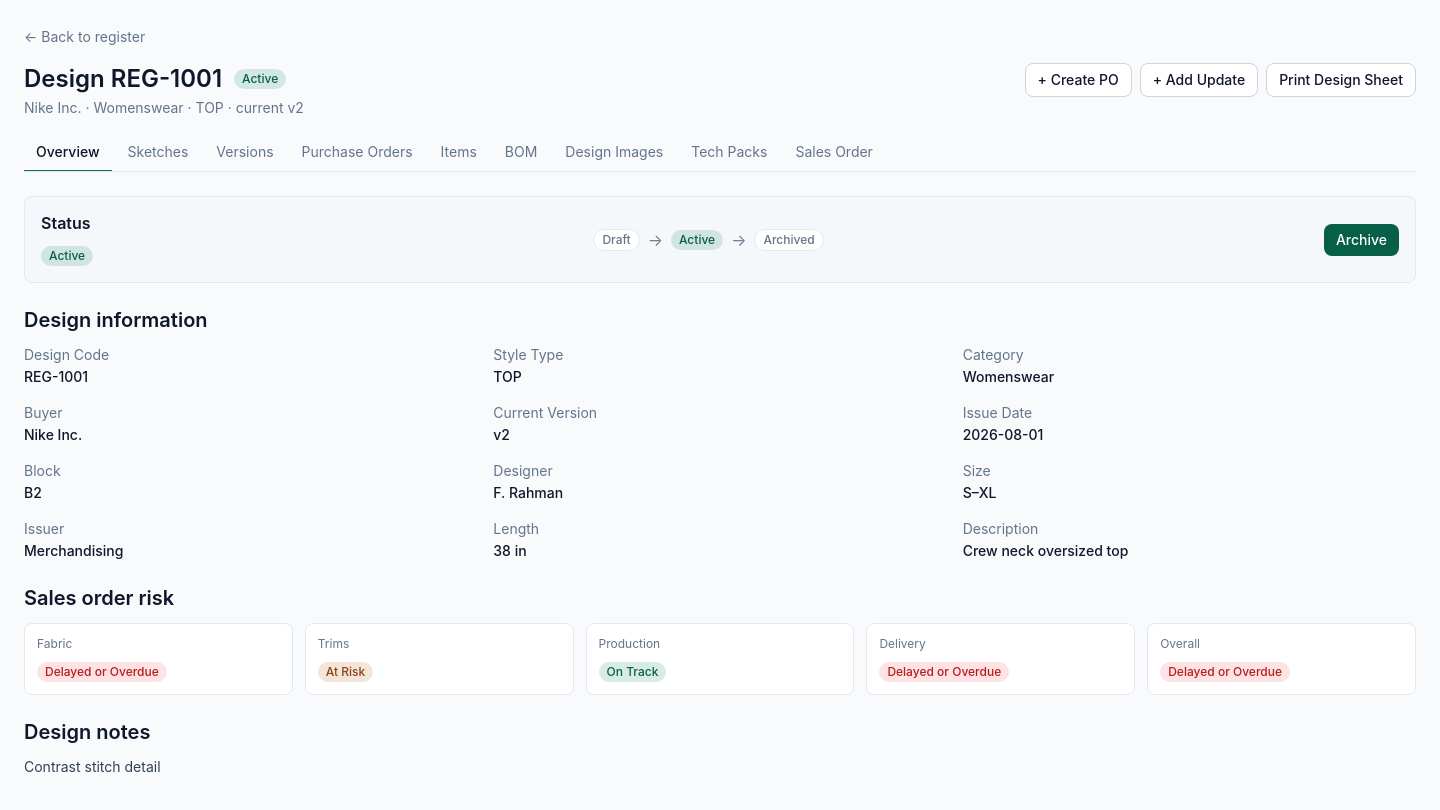
Test case: DesignDetailPage — Purchase Orders tab › lists the POs with a drill-down link
Expected: the heading "Design REG-1001" is shown, x1=24 y1=63 x2=222 y2=94
Step 1. Click the tab "Purchase Orders" → (357, 153), box x1=290 y1=134 x2=425 y2=172
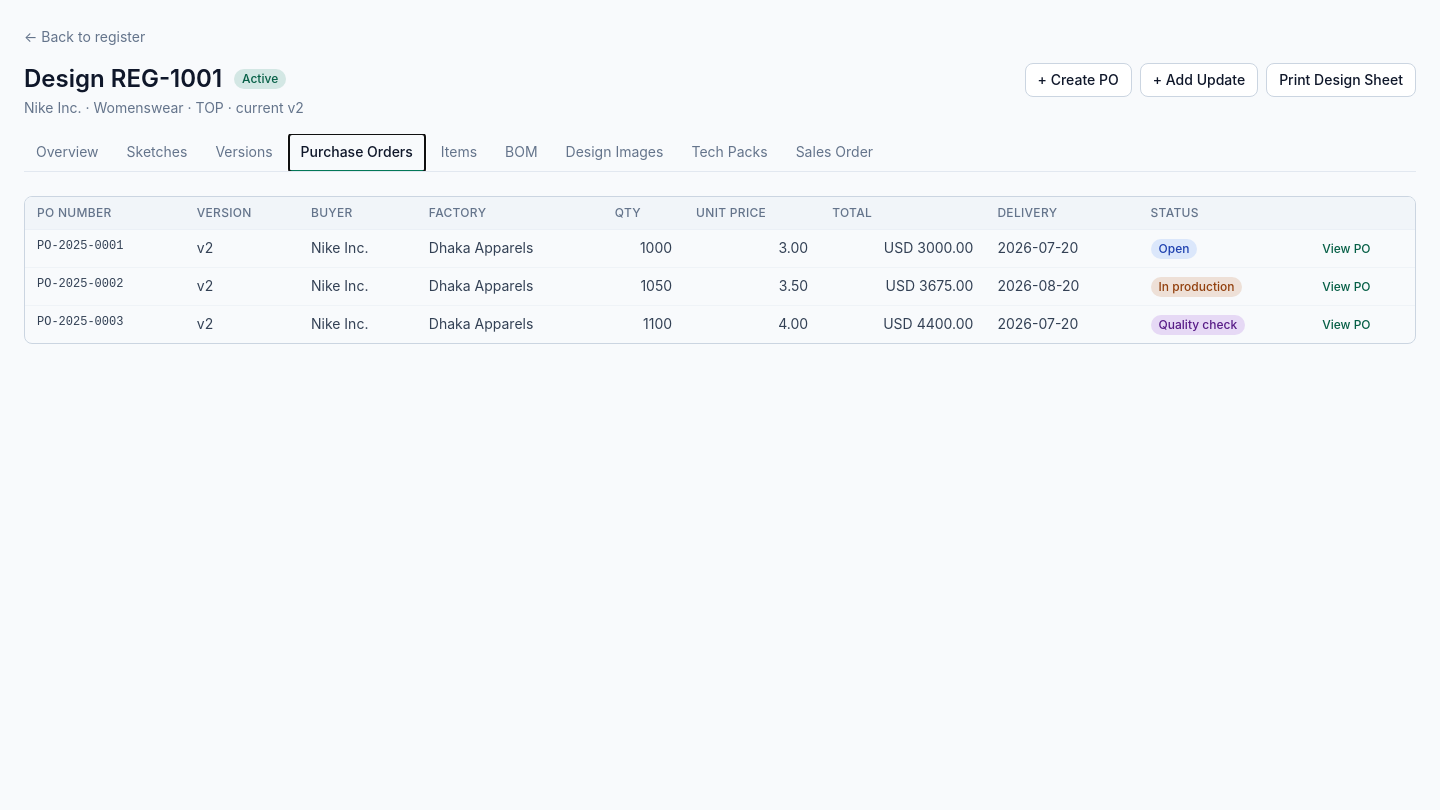
Result: the text "PO-2025-0001" is shown at x1=25 y1=230 x2=185 y2=268
